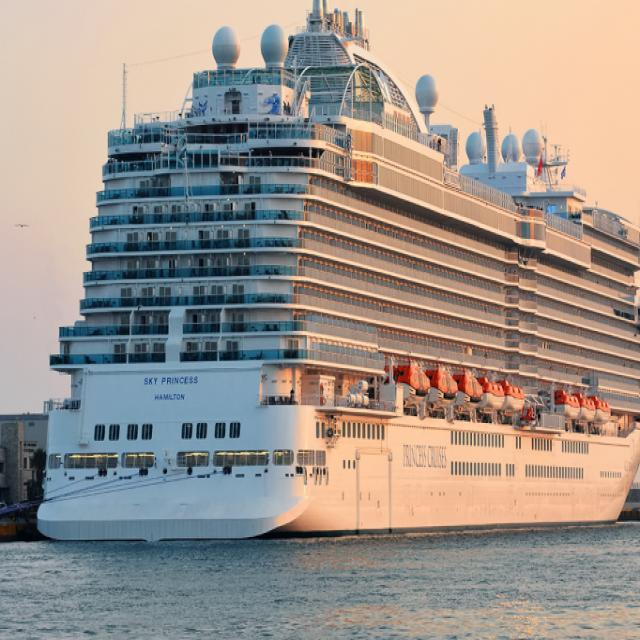cruises: (27, 1, 640, 548)
